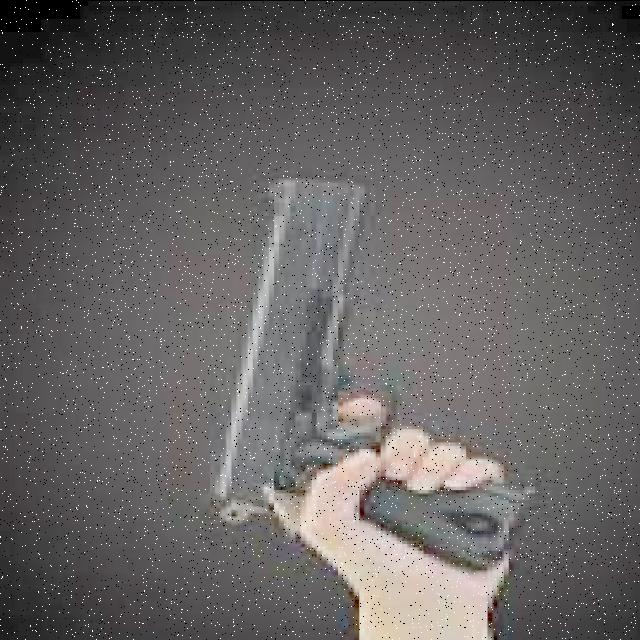Guns: (212, 178, 398, 540), (356, 464, 538, 576)
